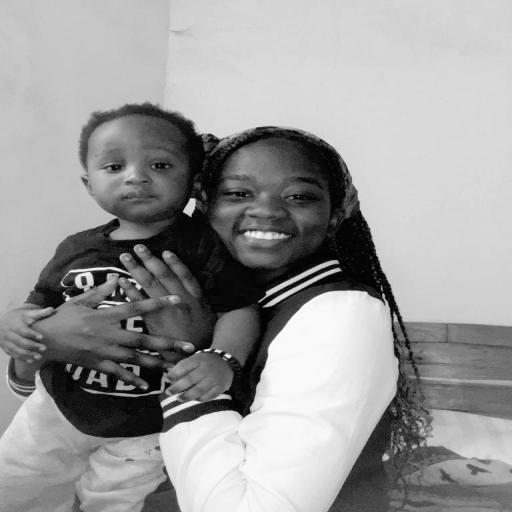LAURENE: (209, 116, 351, 276)
